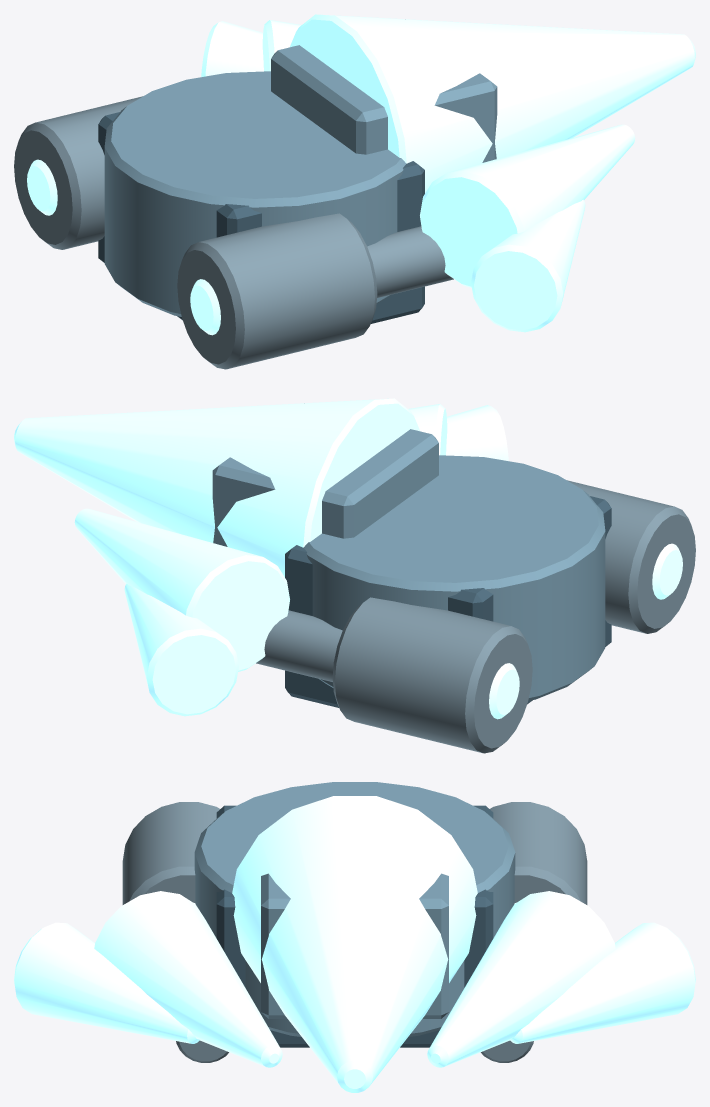
Rendered from frost_turret_l3.glb.
The picture shows the model from 3 angles, top to bottom: view 1: azimuth 30°, elevation 25°; view 2: azimuth 150°, elevation 25°; view 3: azimuth 270°, elevation 25°; orthographic projection.
Parts seen in each view (by area): view 1: Cylinder, Cone, Cylinder.003, Cone.001, Cylinder.005, Cube.001, Cone.003, Cube, Cylinder.001, Cone.004, Cylinder.004, Cylinder.006 (+1 smaller); view 2: Cylinder, Cone, Cylinder.005, Cone.002, Cylinder.003, Cube.001, Cone.004, Cube, Cylinder.002, Cone.003, Cylinder.004, Cylinder.006 (+1 smaller); view 3: Cone, Cone.001, Cone.002, Cylinder, Cone.003, Cone.004, Cylinder.003, Cylinder.005, Cube, Cube.001, Cylinder.001, Cylinder.002.
Boxes of the visible parts, <box> form: Cylinder: <box>104,71,406,316</box>; Cone: <box>290,14,695,192</box>; Cylinder.003: <box>177,213,377,369</box>; Cone.001: <box>420,124,635,287</box>; Cylinder.005: <box>14,96,142,249</box>; Cube.001: <box>271,19,497,162</box>; Cone.003: <box>471,199,585,332</box>; Cube: <box>98,112,424,323</box>; Cylinder.001: <box>367,226,453,297</box>; Cone.004: <box>201,21,263,76</box>; Cylinder.004: <box>190,279,220,335</box>; Cylinder.006: <box>27,159,57,215</box>; Cylinder: <box>303,455,605,700</box>; Cone: <box>14,398,419,576</box>; Cylinder.005: <box>332,597,532,753</box>; Cone.002: <box>74,508,289,671</box>; Cylinder.003: <box>567,480,695,633</box>; Cube.001: <box>212,403,438,546</box>; Cone.004: <box>124,583,238,716</box>; Cube: <box>285,496,611,707</box>; Cylinder.002: <box>256,610,342,681</box>; Cone.003: <box>446,405,508,460</box>; Cylinder.004: <box>652,543,682,599</box>; Cylinder.006: <box>489,663,519,719</box>; Cone: <box>232,796,477,1092</box>; Cone.001: <box>94,891,282,1067</box>; Cone.002: <box>427,891,615,1067</box>; Cylinder: <box>194,782,515,1036</box>; Cone.003: <box>14,922,199,1043</box>; Cone.004: <box>510,922,695,1043</box>; Cylinder.003: <box>122,802,219,904</box>; Cylinder.005: <box>490,802,587,904</box>; Cube: <box>216,805,493,1047</box>; Cube.001: <box>261,873,448,1018</box>; Cylinder.001: <box>176,1040,228,1062</box>; Cylinder.002: <box>481,1040,533,1062</box>.
Size of the model in its own units: 1.21 by 0.4939 by 1.23.
